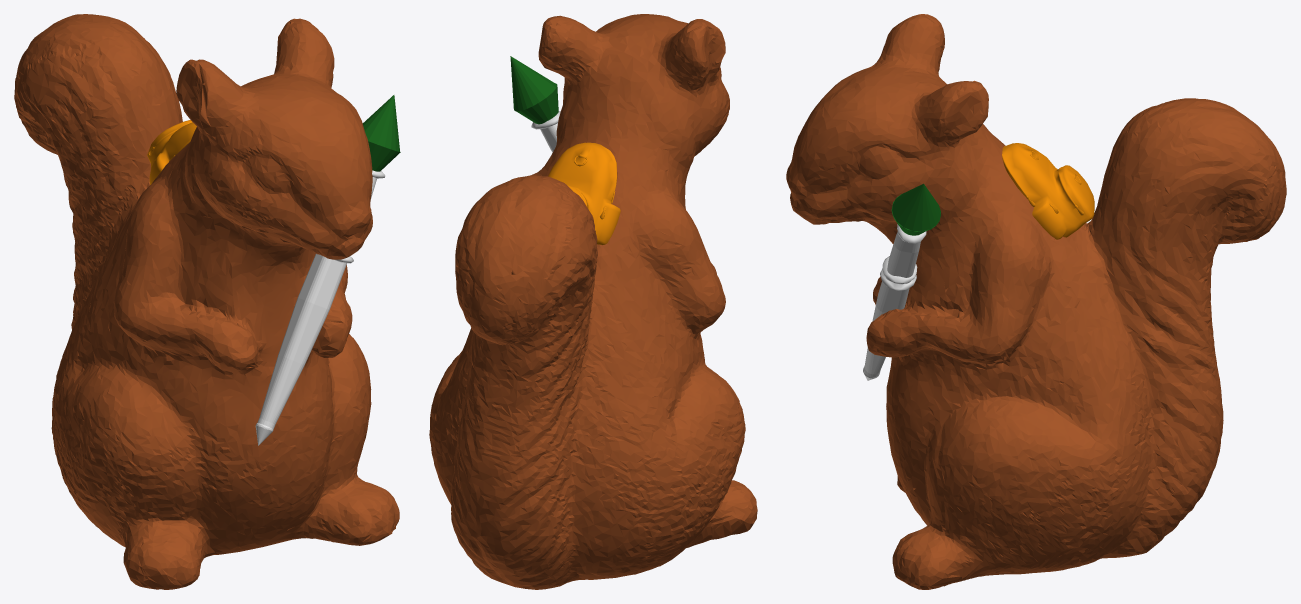
The model's file is squirrel-designer.gltf.
3 views of the same model, side by side, from view 1: azimuth 30°, elevation 25°; view 2: azimuth 150°, elevation 25°; view 3: azimuth 270°, elevation 25° (orthographic). The views are drawn at different scales.
Visible parts, largest first — view 1: squirrel-designer, Cube_Cube.001, 15236_Backpack, Cone.002, Cone; view 2: squirrel-designer, 15236_Backpack, Cone.002, Cone; view 3: squirrel-designer, 15236_Backpack, Cube_Cube.001, Cone.002, Mball_Mball.001.
Part boxes in pixels (<box>): squirrel-designer: <box>14,14,399,589</box>; Cube_Cube.001: <box>257,177,376,429</box>; 15236_Backpack: <box>147,120,196,184</box>; Cone.002: <box>362,95,399,151</box>; Cone: <box>368,141,400,171</box>; squirrel-designer: <box>429,14,757,589</box>; 15236_Backpack: <box>548,142,620,244</box>; Cone.002: <box>510,56,556,111</box>; Cone: <box>514,83,558,124</box>; squirrel-designer: <box>786,14,1286,589</box>; 15236_Backpack: <box>1002,143,1094,239</box>; Cube_Cube.001: <box>864,232,920,377</box>; Cone.002: <box>892,183,940,231</box>; Mball_Mball.001: <box>880,224,926,291</box>.
Size of the model in its own units: 2.19 by 3.88 by 3.57.
